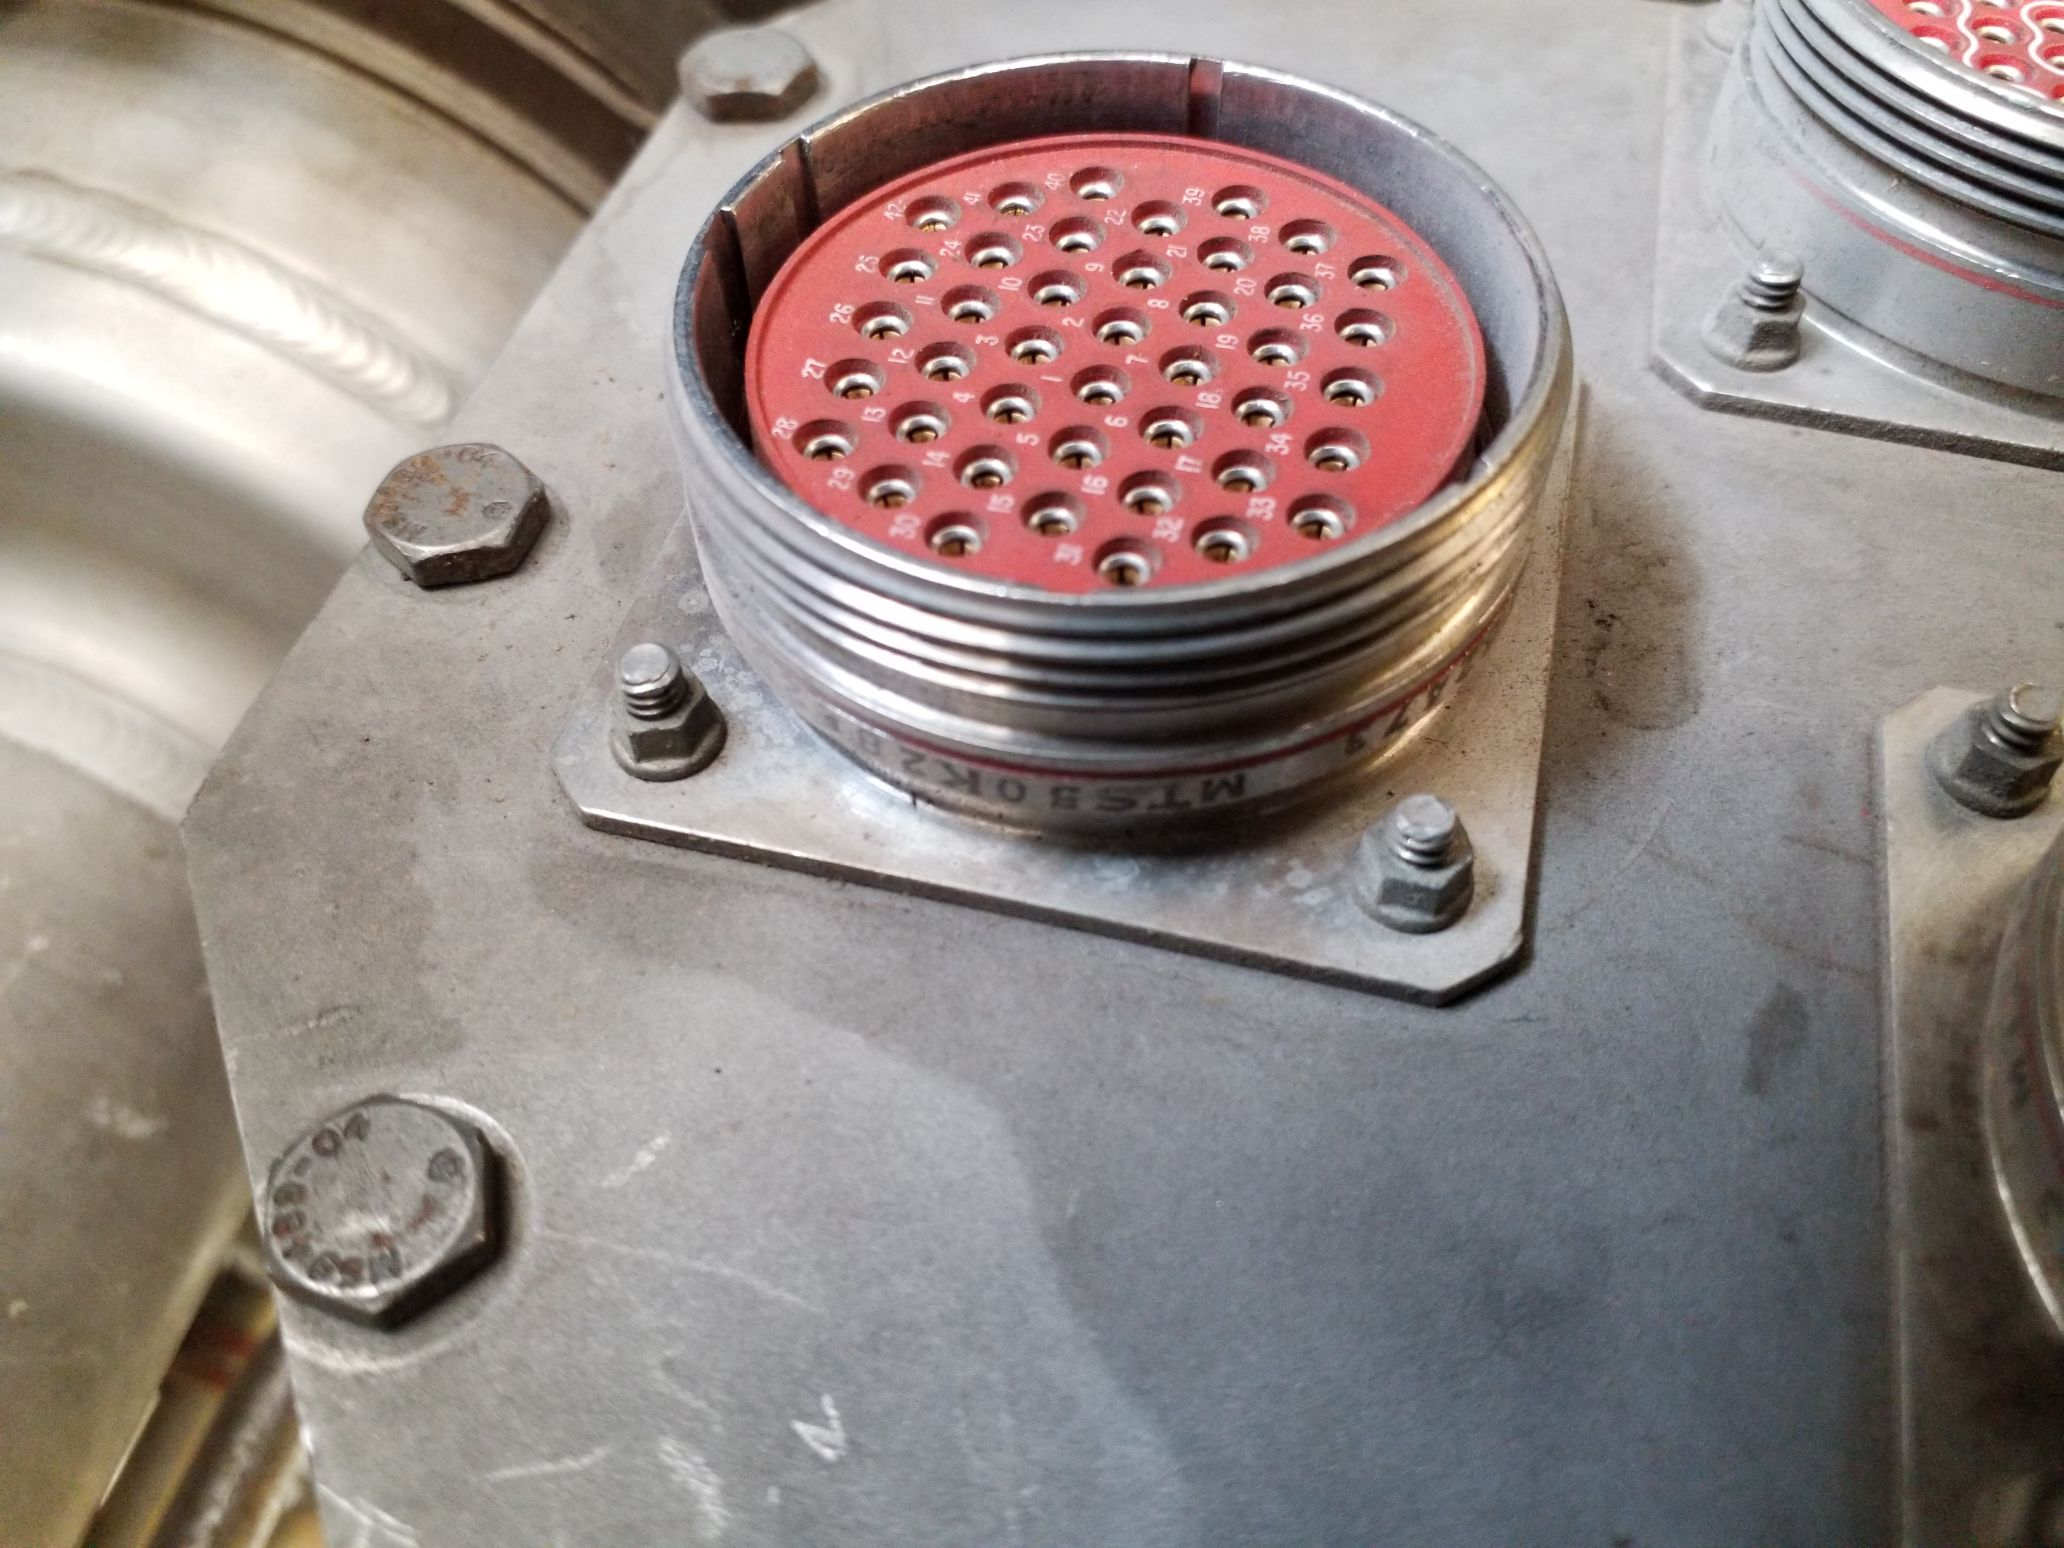inletnumbers: (658, 23, 1572, 740)
